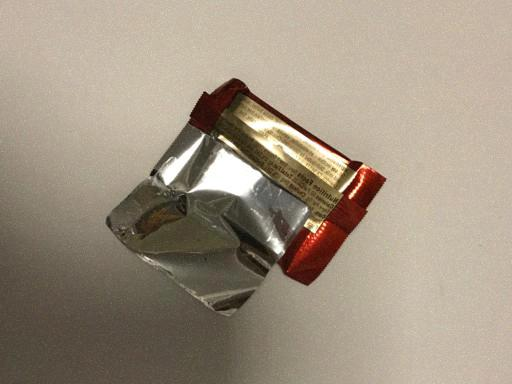trash: (106, 76, 386, 316)
